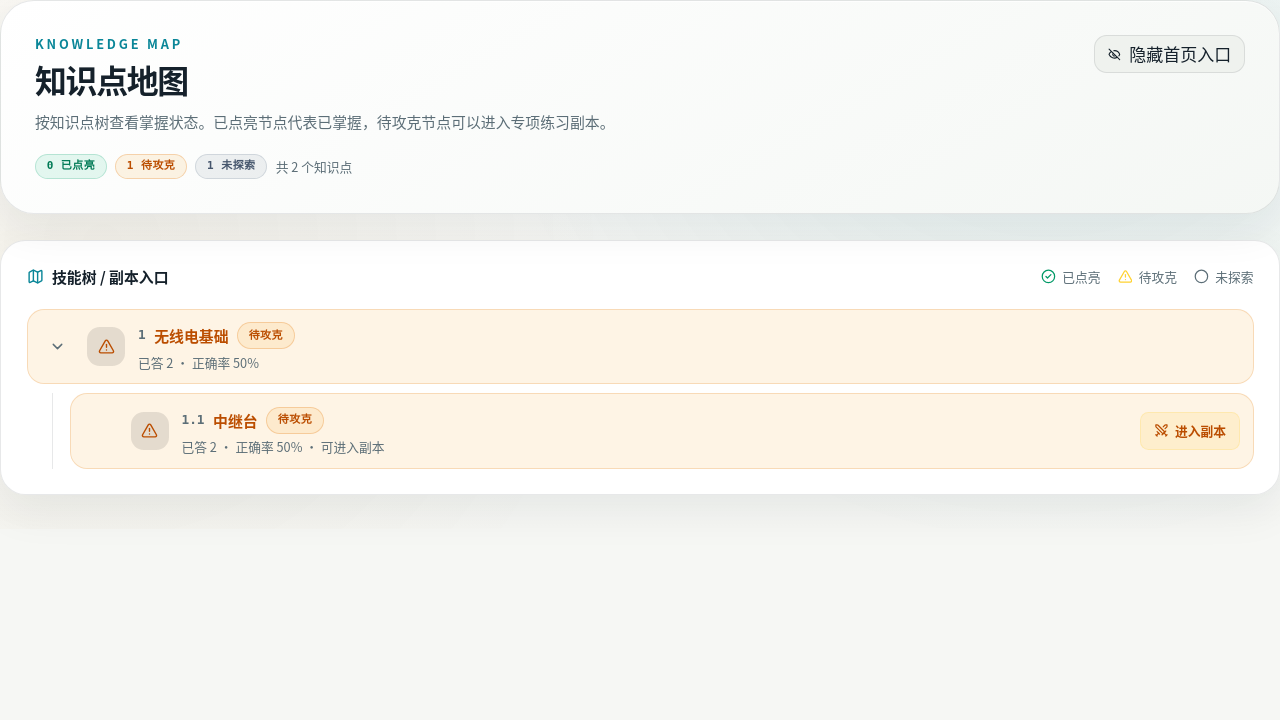
it: KnowledgeMapView › hides and restores the home entry through the profile API
Click the button "隐藏首页入口": [1170, 54] box [1094, 35, 1245, 73]
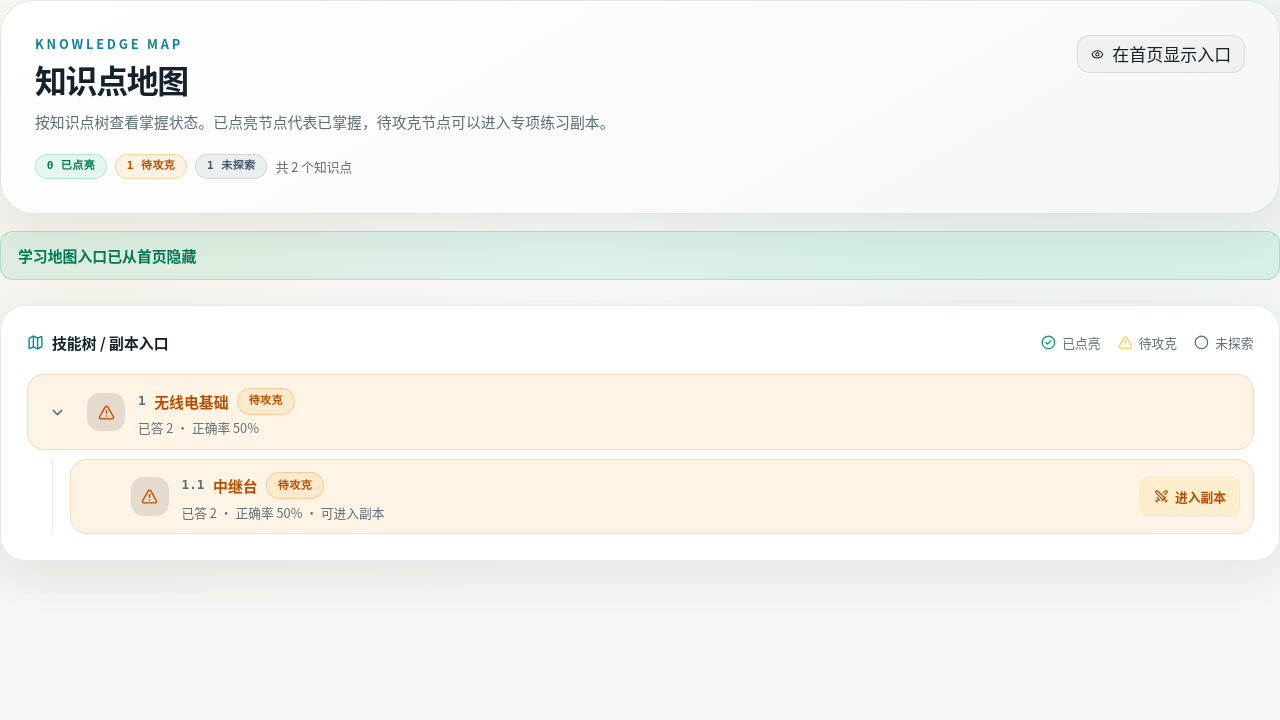
Expected: the button "在首页显示入口" is shown, [1077, 35, 1245, 73]
